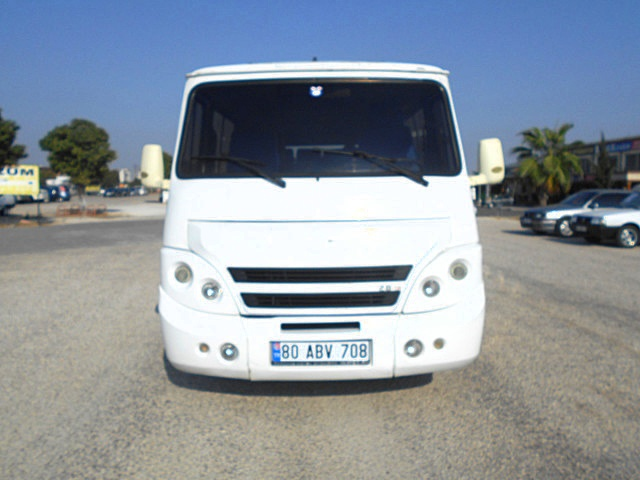plaka: (273, 339, 372, 360)
